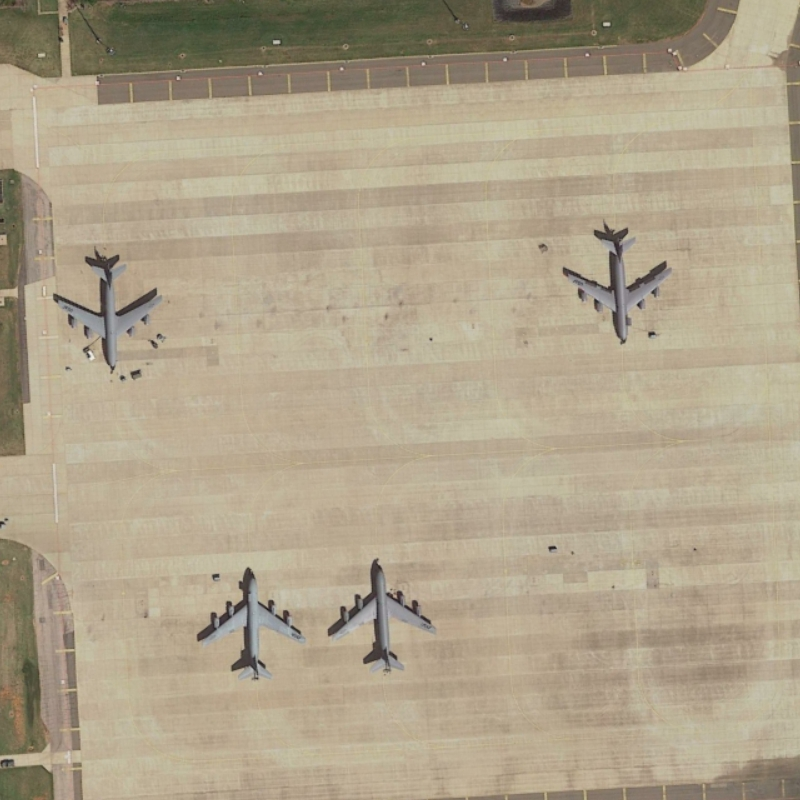A14: (553, 224, 681, 351), (51, 244, 171, 378), (323, 555, 443, 679), (192, 559, 307, 686)
